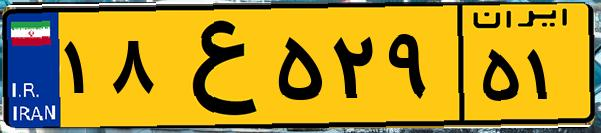1: (57, 26, 110, 100), (525, 38, 570, 115)
2: (330, 28, 385, 110)
5: (270, 28, 330, 110), (475, 38, 525, 113)
8: (110, 28, 158, 98)
9: (385, 28, 445, 110)
ع: (158, 12, 270, 120)
